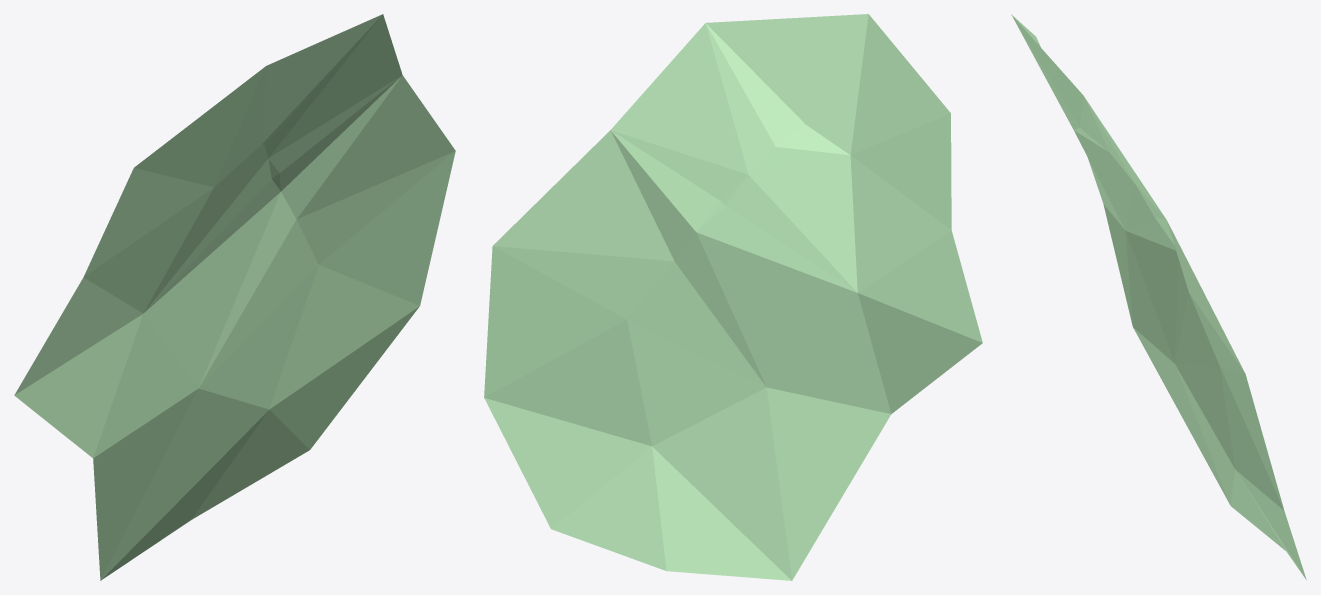
Rendered from yosp2000_m20000.glb.
3 renders of one model, left to right at view 1: azimuth 30°, elevation 25°; view 2: azimuth 150°, elevation 25°; view 3: azimuth 270°, elevation 25°, orthographic. The views are drawn at different scales.
Size of the model in its own units: 37.44 by 40.94 by 21.68.
